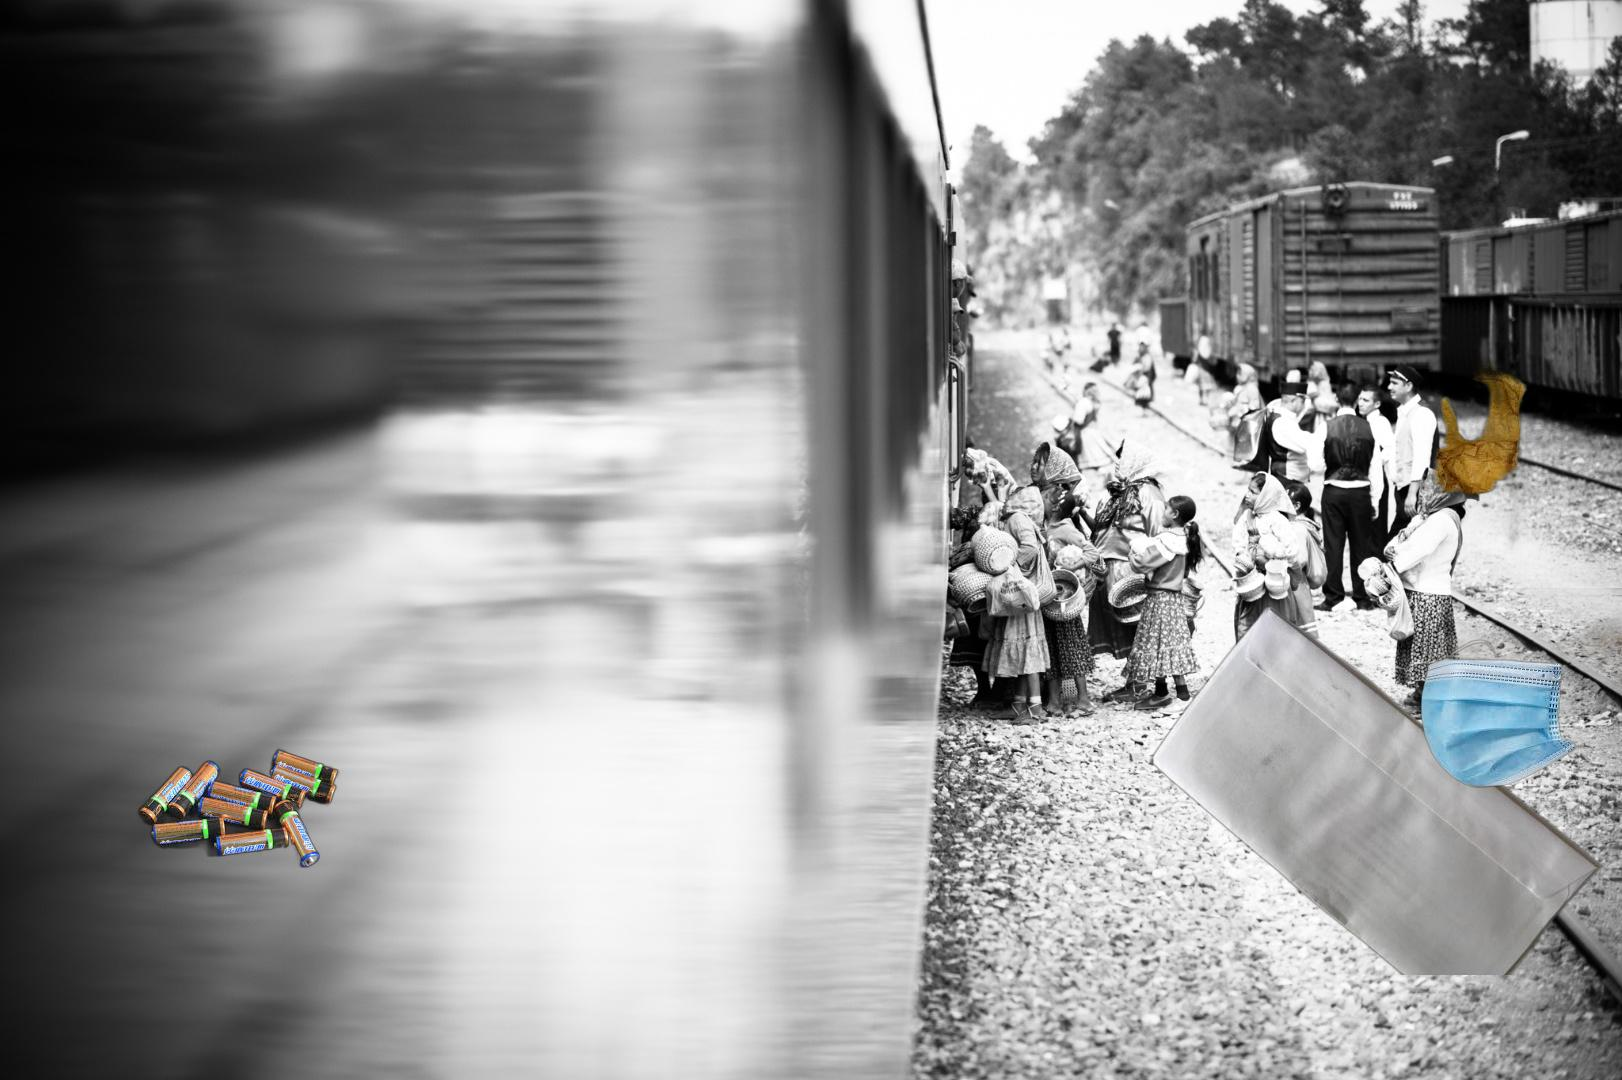battery: (134, 746, 343, 871)
biological: (551, 1019, 1151, 1080)
paper: (1147, 603, 1608, 975)
trash: (1395, 336, 1587, 595), (1418, 636, 1579, 790)
trashbox-cardboard: (1389, 588, 1622, 993)
